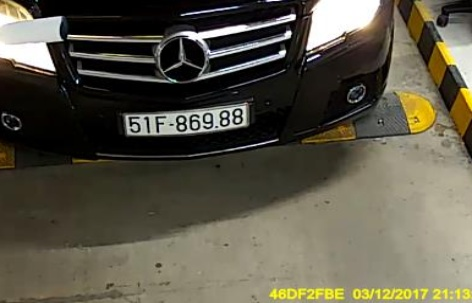plate: (118, 104, 256, 137)
